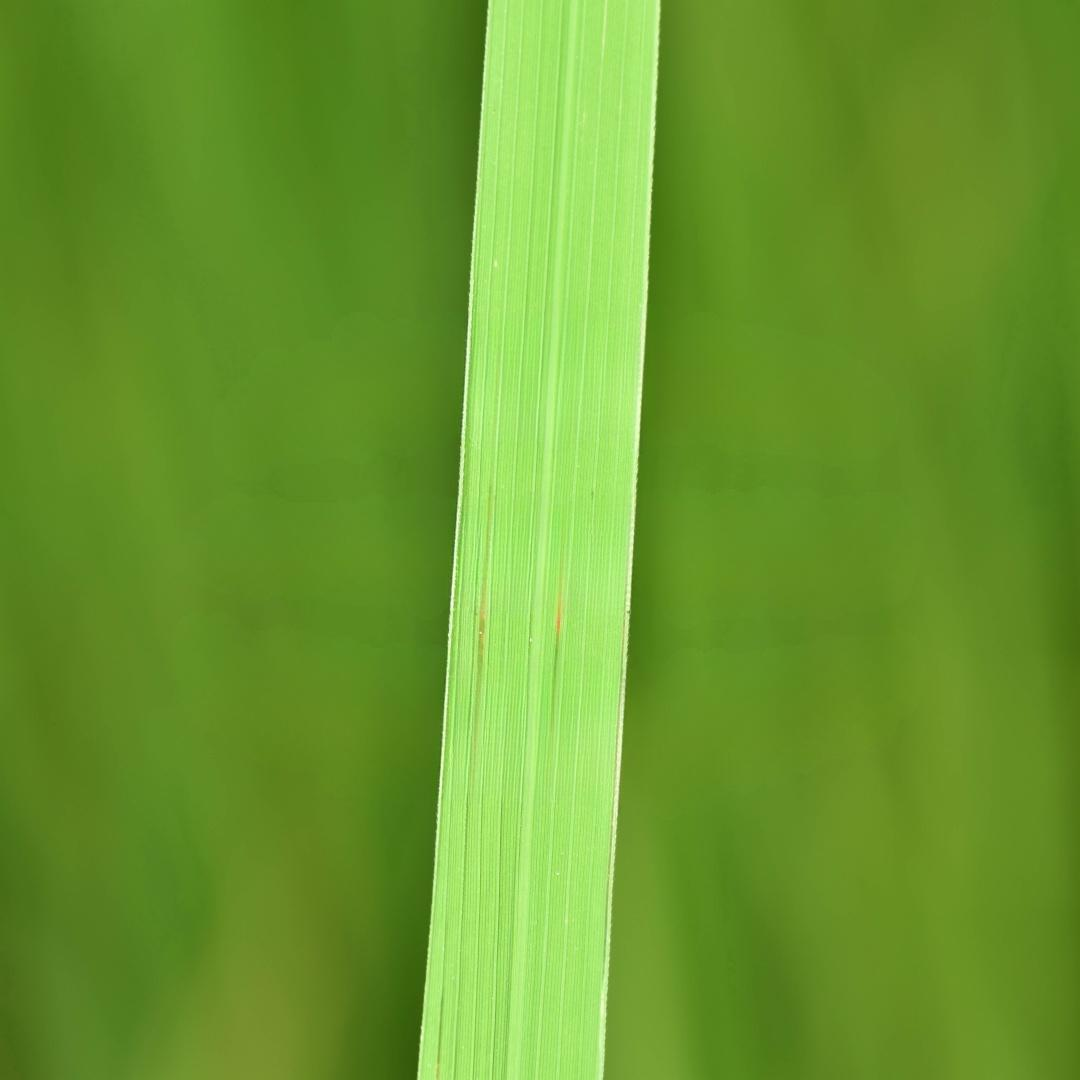BLS: (473, 486, 490, 789), (552, 536, 563, 717)
LEAF: (418, 0, 658, 1079)
